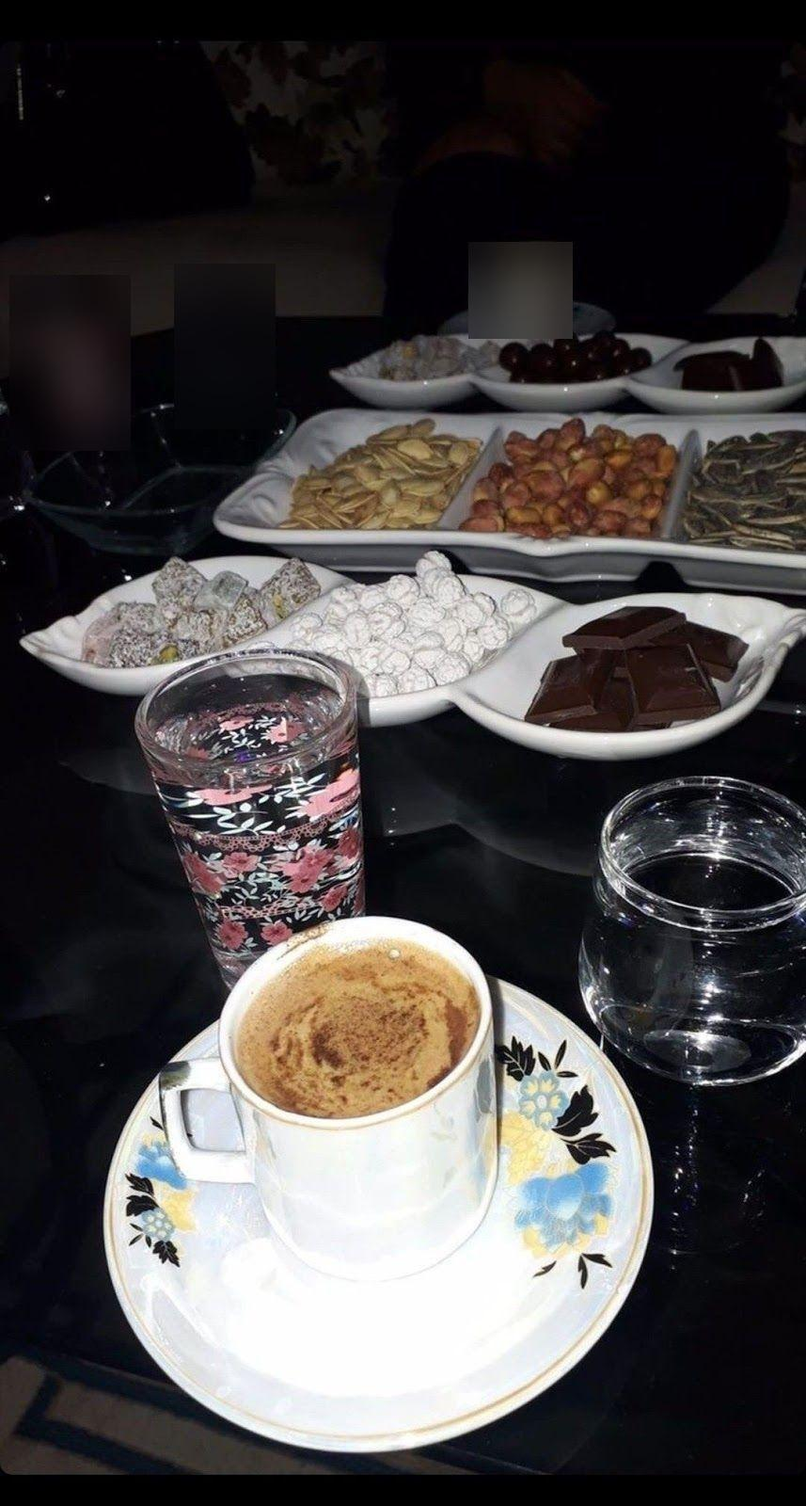cup-handle: (156, 913, 505, 1282)
glass-normal: (134, 645, 366, 987), (574, 772, 805, 1090)
